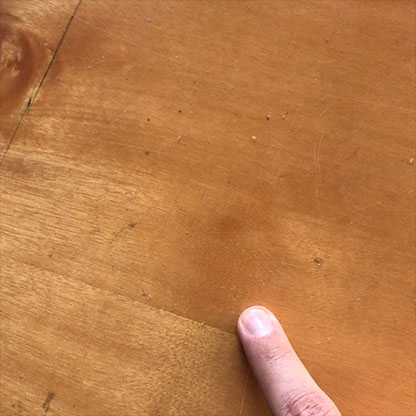fingertip: (233, 298, 295, 351)
